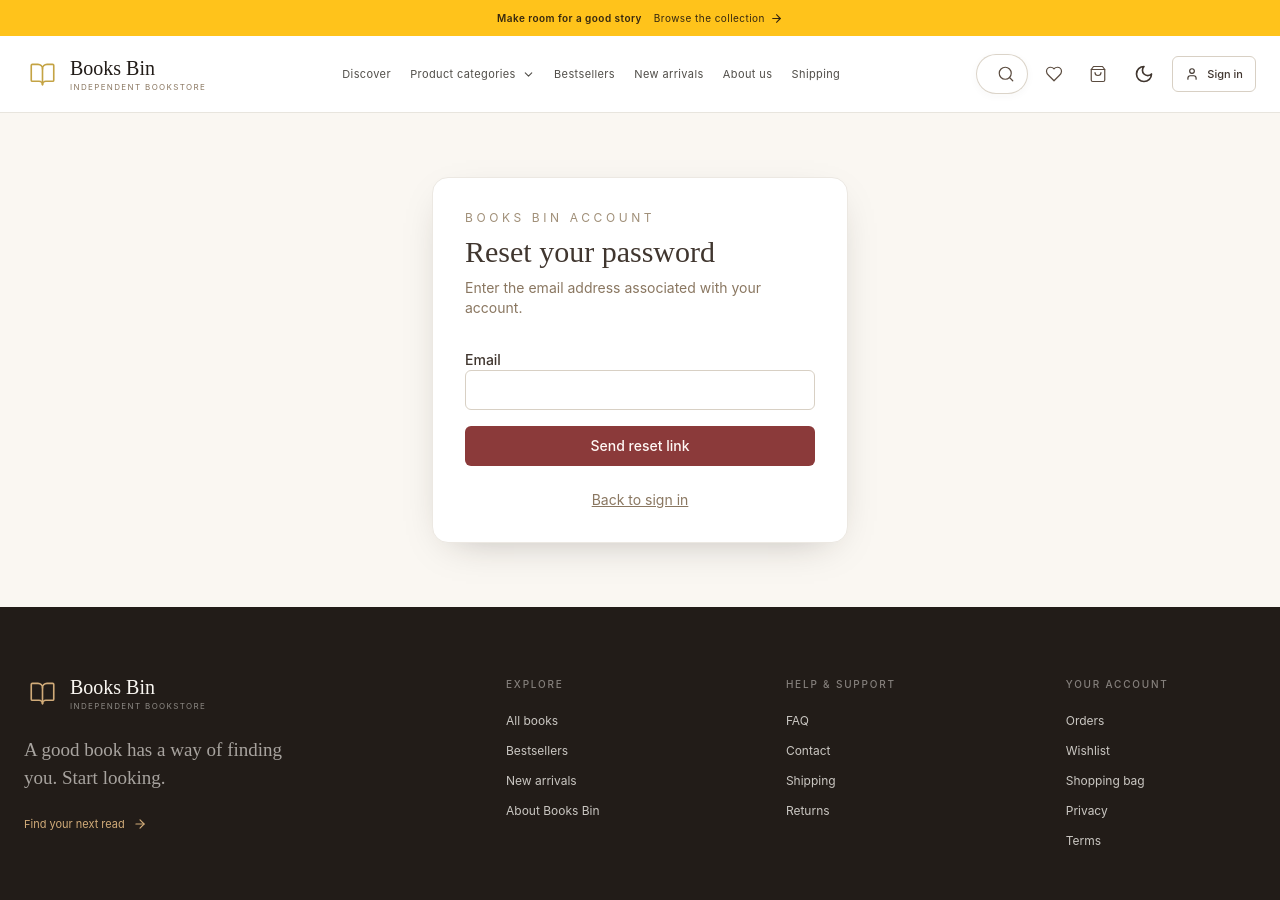
public password reset flow › renders forgot-password while signed out and submits the public API route
The width and height of the screenshot is (1280, 900).
Expected: the heading "Reset your password" is shown, 465,235 -> 715,268
Type "reader@example.com" into the field labelled "Email". click: {"x": 640, "y": 390}
box: 465,370 -> 815,410
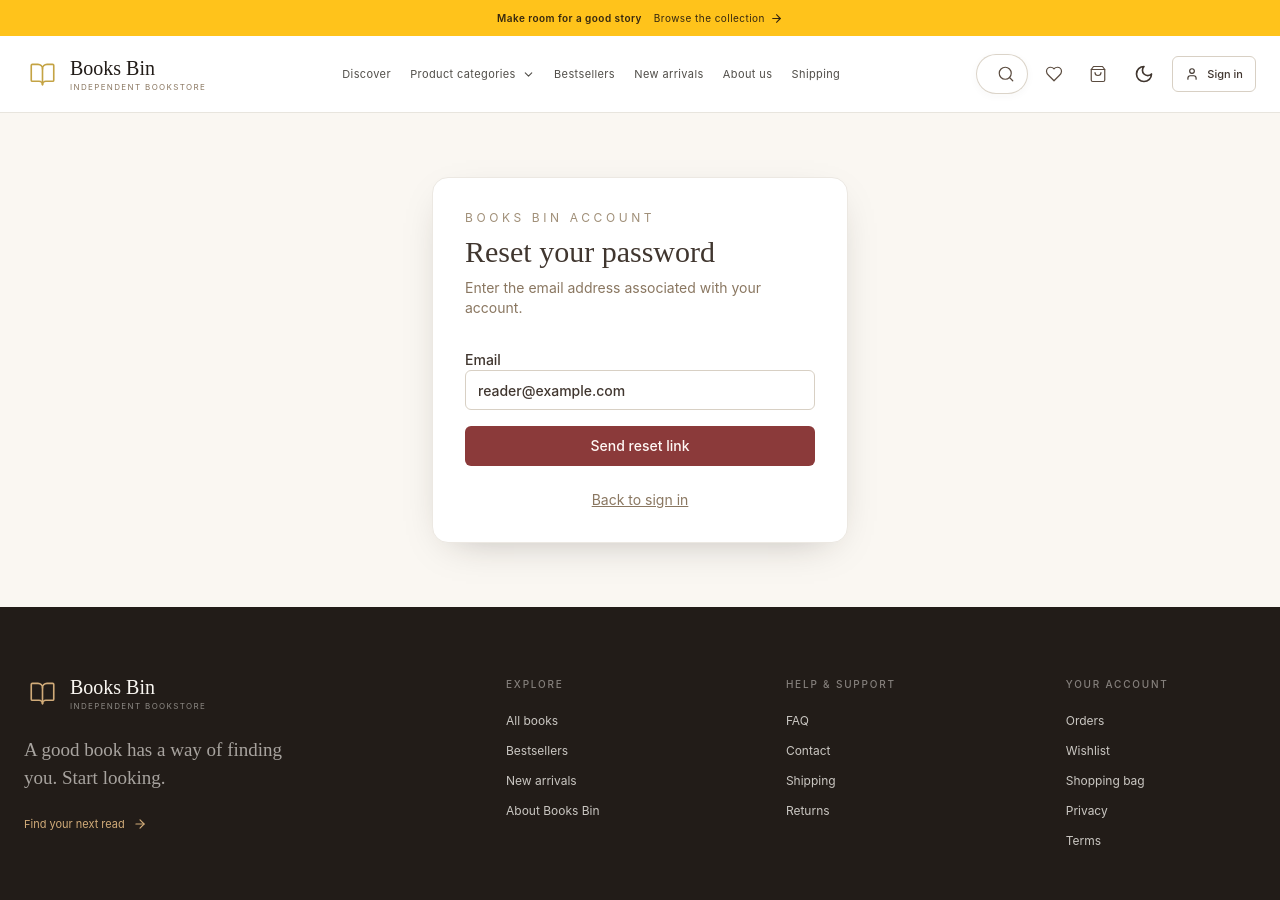
Click the button "Send reset link". click: {"x": 640, "y": 446}
box: 465,426 -> 815,466
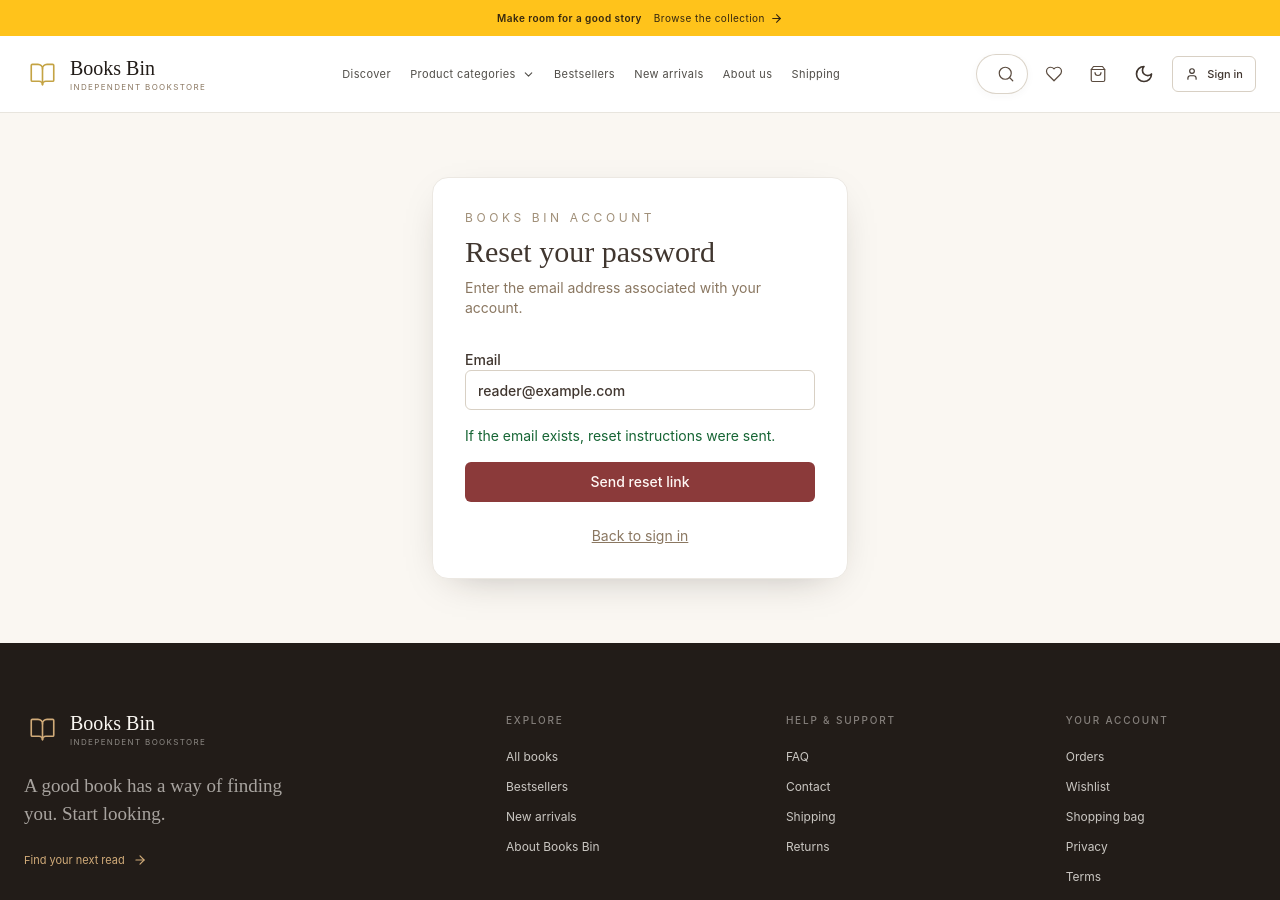
Expected: the message shows "If the email exists", 465,427 -> 775,444
